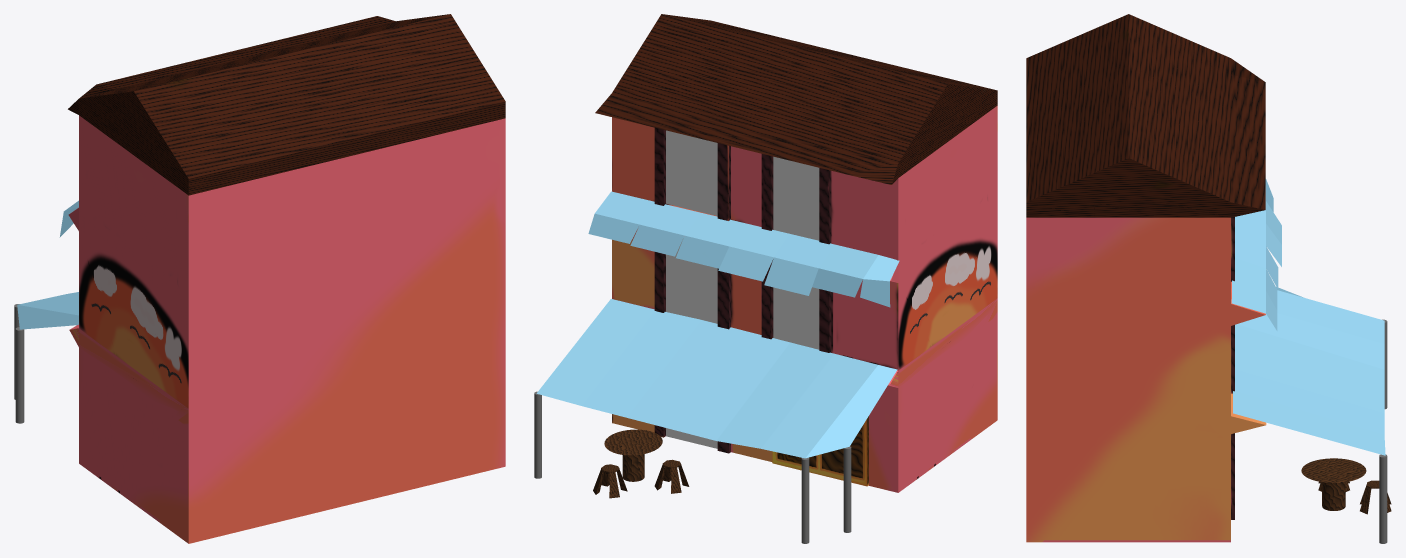
The model's file is 3StoryCafe.fbx.
3 views of the same model, side by side, from view 1: azimuth 30°, elevation 25°; view 2: azimuth 150°, elevation 25°; view 3: azimuth 270°, elevation 25° (orthographic). The views are drawn at different scales.
Visible parts, largest first — view 1: BaseBuilding, Roof, Overhang.001, Support.003; view 2: BaseBuilding, Roof, Overhang.001, Overhang, Window.004, Window.005, Window.002, Window.003, Door, OutsideTable, Support.002, Support.003 (+3 smaller); view 3: BaseBuilding, Roof, Overhang.001, Overhang, OutsideTable, Support.001.
Boxes of the visible parts, x1=… form: BaseBuilding: x1=68, y1=115, x2=505, y2=543; Roof: x1=68, y1=14, x2=505, y2=195; Overhang.001: x1=17, y1=292, x2=78, y2=329; Support.003: x1=15, y1=327, x2=24, y2=423; BaseBuilding: x1=612, y1=106, x2=997, y2=492; Roof: x1=595, y1=14, x2=997, y2=184; Overhang.001: x1=536, y1=299, x2=897, y2=458; Overhang: x1=588, y1=191, x2=899, y2=307; Window.004: x1=666, y1=130, x2=717, y2=215; Window.005: x1=773, y1=156, x2=819, y2=240; Window.002: x1=666, y1=238, x2=717, y2=323; Window.003: x1=773, y1=287, x2=819, y2=349; Door: x1=772, y1=416, x2=868, y2=486; OutsideTable: x1=604, y1=429, x2=662, y2=481; Support.002: x1=801, y1=457, x2=809, y2=543; Support.003: x1=843, y1=446, x2=851, y2=532; BaseBuilding: x1=1026, y1=217, x2=1266, y2=542; Roof: x1=1026, y1=14, x2=1265, y2=217; Overhang.001: x1=1233, y1=286, x2=1385, y2=455; Overhang: x1=1231, y1=179, x2=1281, y2=330; OutsideTable: x1=1301, y1=458, x2=1366, y2=510; Support.001: x1=1379, y1=454, x2=1387, y2=543.
Size of the model in its own units: 514 by 622 by 535.
9 materials, 5 textured.
